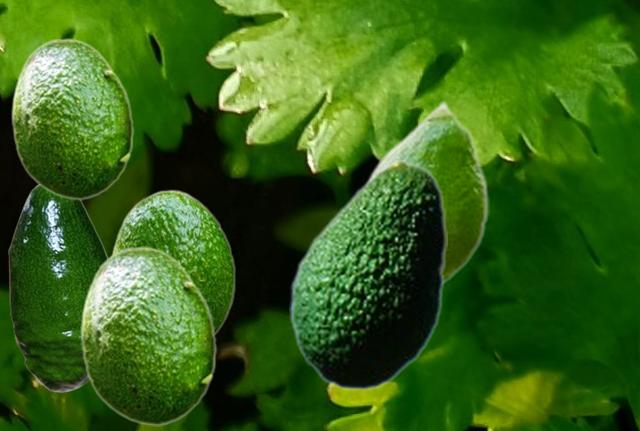avocado: (289, 160, 446, 390), (79, 246, 216, 425), (361, 99, 488, 288), (8, 184, 109, 391), (10, 38, 133, 199), (110, 189, 235, 334)
